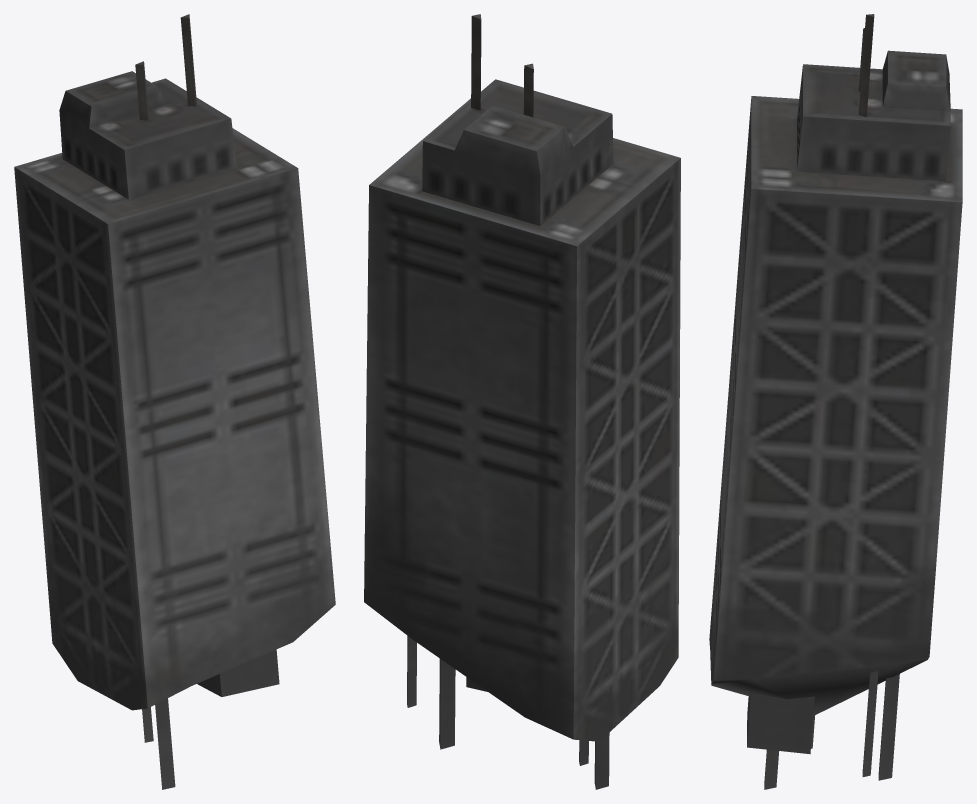
Rendered from skyBuildingAAA_pos_grp (10).fbx.
3 renders of one model, left to right at view 1: azimuth 30°, elevation 25°; view 2: azimuth 150°, elevation 25°; view 3: azimuth 270°, elevation 25°, orthographic. The views are drawn at different scales.
Visible parts, largest first — view 1: skyBuildingAAA_geo; view 2: skyBuildingAAA_geo; view 3: skyBuildingAAA_geo.
Part boxes in pixels (<box>): skyBuildingAAA_geo: <box>14,14,335,789</box>; skyBuildingAAA_geo: <box>364,14,680,789</box>; skyBuildingAAA_geo: <box>709,14,962,789</box>.
Bounding box in the file's own units: 3.43 × 11.22 × 3.18.
